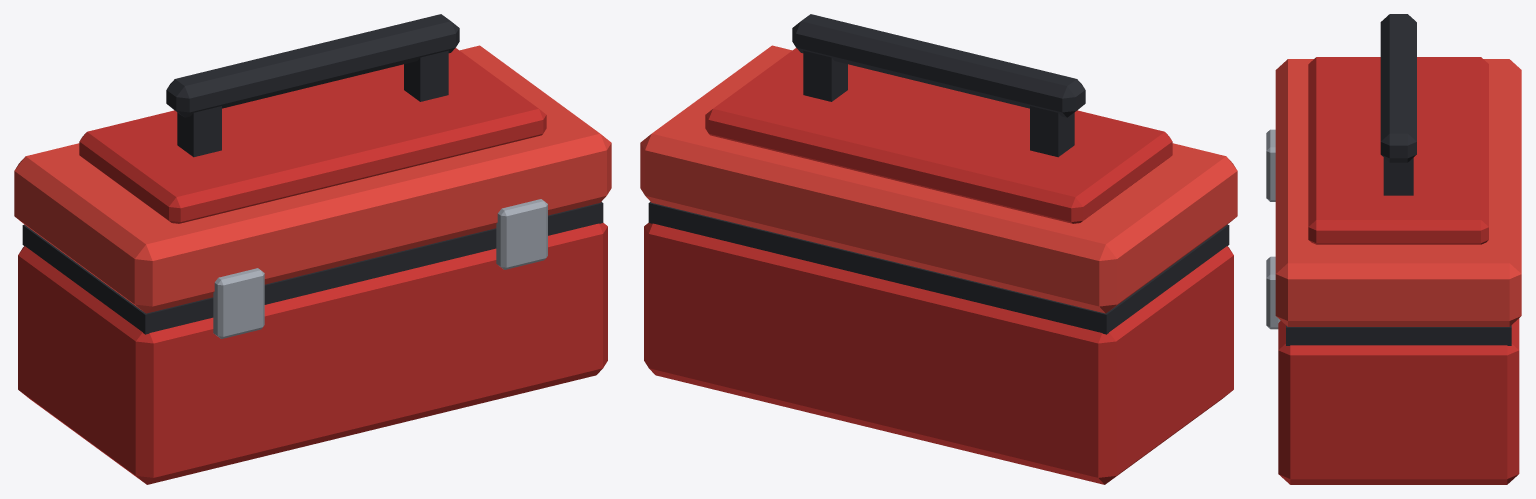
File: Prop_Toolbox.fbx
3 views of the same model, side by side, from view 1: azimuth 30°, elevation 25°; view 2: azimuth 150°, elevation 25°; view 3: azimuth 270°, elevation 25° (orthographic). The views are drawn at different scales.
Visible parts, largest first — view 1: Prop_Toolbox; view 2: Prop_Toolbox; view 3: Prop_Toolbox.
Boxes of the visible parts, box(x1,y1,x2,y2) form: Prop_Toolbox: box(14, 14, 611, 484); Prop_Toolbox: box(640, 14, 1237, 484); Prop_Toolbox: box(1266, 14, 1521, 484).
Size of the model in its own units: 0.505 by 0.341 by 0.2545.
